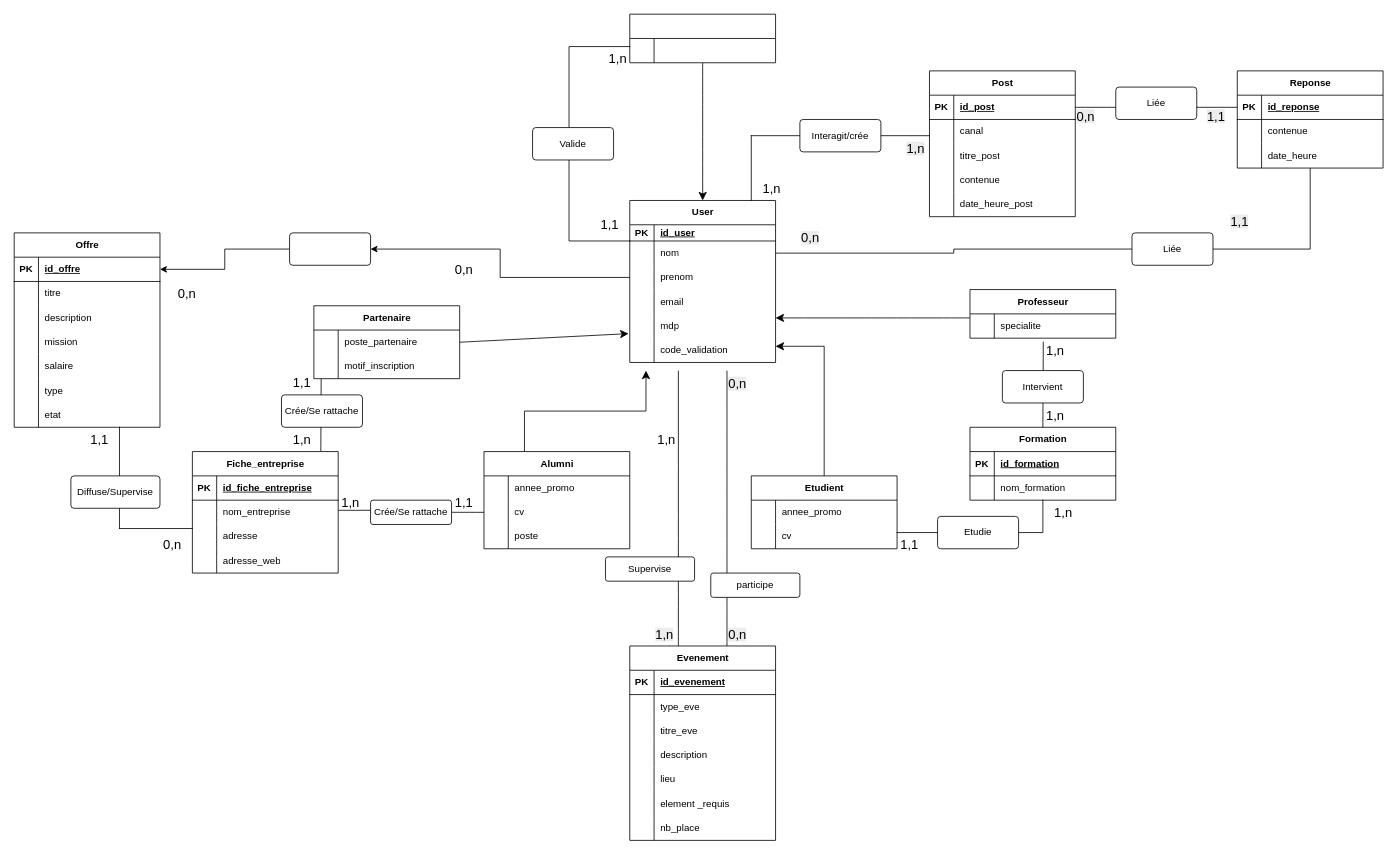
This 1397x855 diagram has some shape labels left out. Each missing label, with the centre of its shape:
"Gestionaire" goes at [702,38].
"postuler" goes at [330,248].
